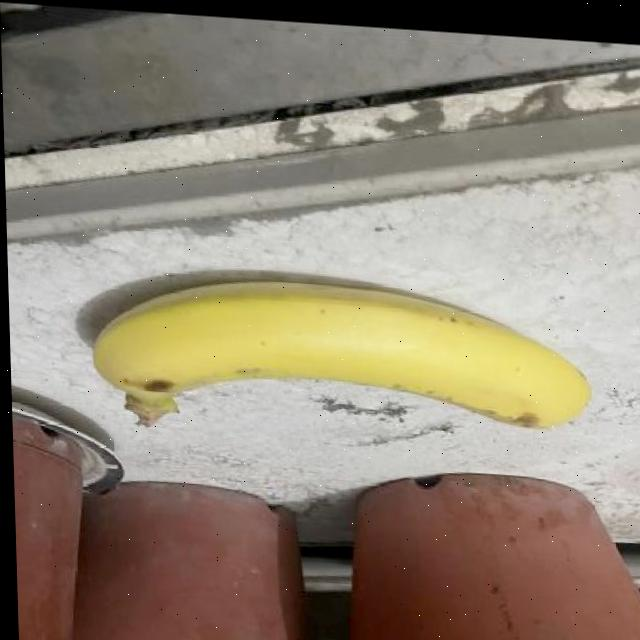banana: (76, 258, 595, 461)
